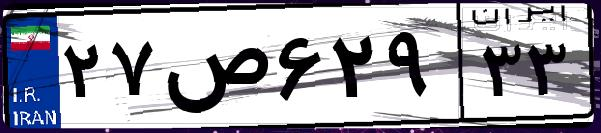2: (330, 28, 385, 110), (57, 26, 110, 100)
3: (475, 38, 525, 113), (525, 38, 570, 115)
6: (270, 28, 330, 110)
7: (110, 28, 158, 98)
9: (385, 28, 445, 110)
ص: (158, 20, 270, 120)
